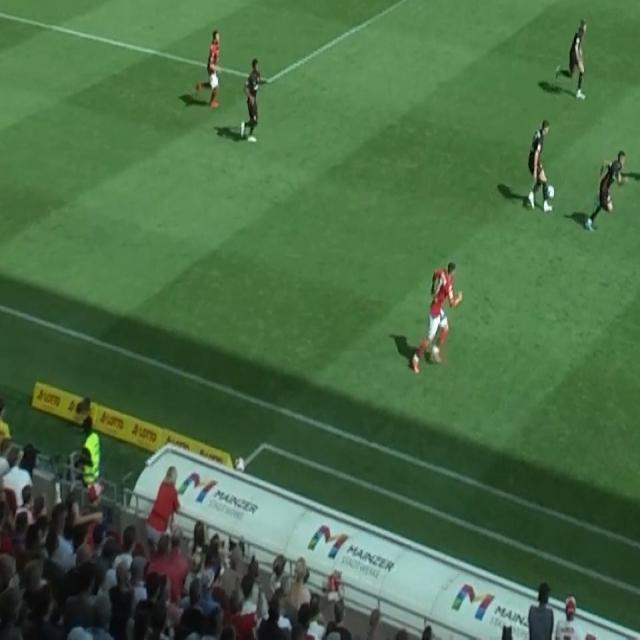ball: (546, 184, 555, 200)
